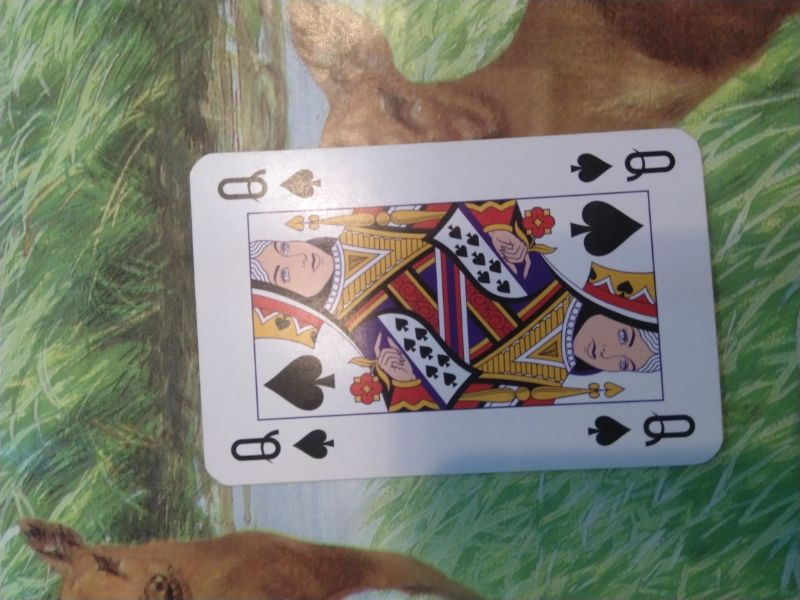Qs: (210, 161, 326, 205), (568, 142, 680, 187), (586, 408, 699, 448), (230, 424, 340, 463)
